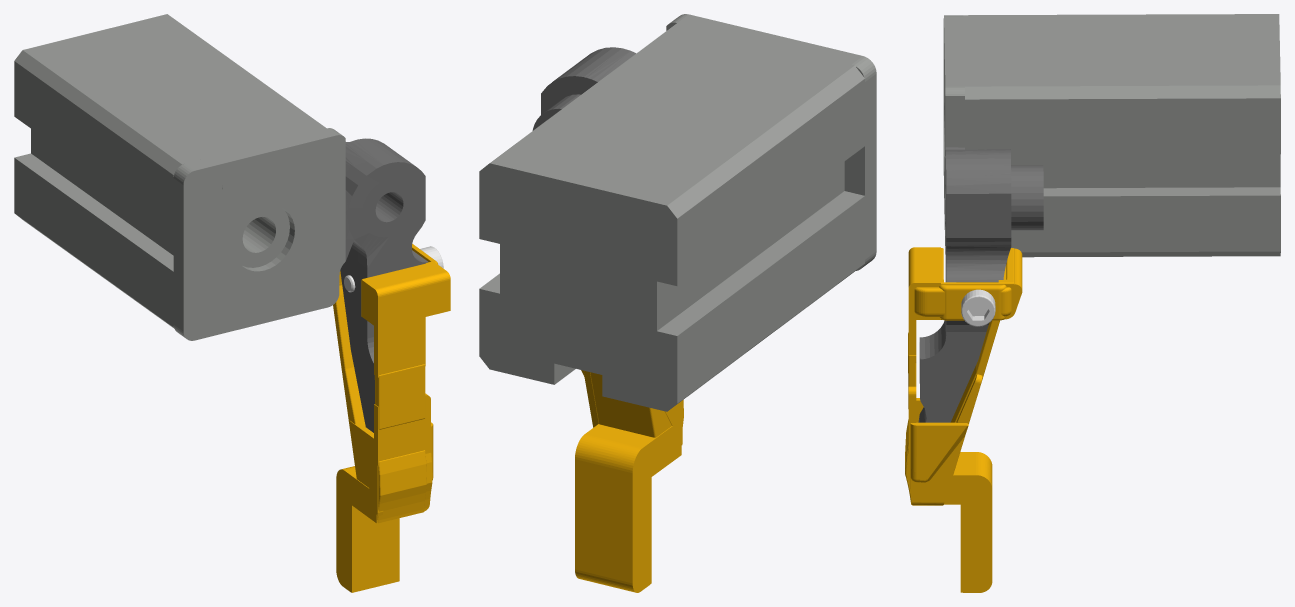
The model's file is jaw_left_extended.dae.
3 views of the same model, side by side, from view 1: azimuth 30°, elevation 25°; view 2: azimuth 150°, elevation 25°; view 3: azimuth 270°, elevation 25° (orthographic). The views are drawn at different scales.
Visible parts, largest first — view 1: DOBOT_Magician-mit-TOOLS_Greifer.003, dobot_gripper_extender.004; view 2: DOBOT_Magician-mit-TOOLS_Greifer.003, dobot_gripper_extender.004; view 3: DOBOT_Magician-mit-TOOLS_Greifer.003, dobot_gripper_extender.004, DOBOT_Magician-mit-TOOLS_Greifer.004.
Part boxes in pixels (<box>): DOBOT_Magician-mit-TOOLS_Greifer.003: <box>14,14,428,432</box>; dobot_gripper_extender.004: <box>333,244,450,592</box>; DOBOT_Magician-mit-TOOLS_Greifer.003: <box>479,14,876,411</box>; dobot_gripper_extender.004: <box>575,370,683,592</box>; DOBOT_Magician-mit-TOOLS_Greifer.003: <box>918,14,1280,422</box>; dobot_gripper_extender.004: <box>905,247,1022,592</box>; DOBOT_Magician-mit-TOOLS_Greifer.004: <box>961,289,995,326</box>.
Size of the model in its own units: 0.0486 by 0.0578 by 0.0801.
